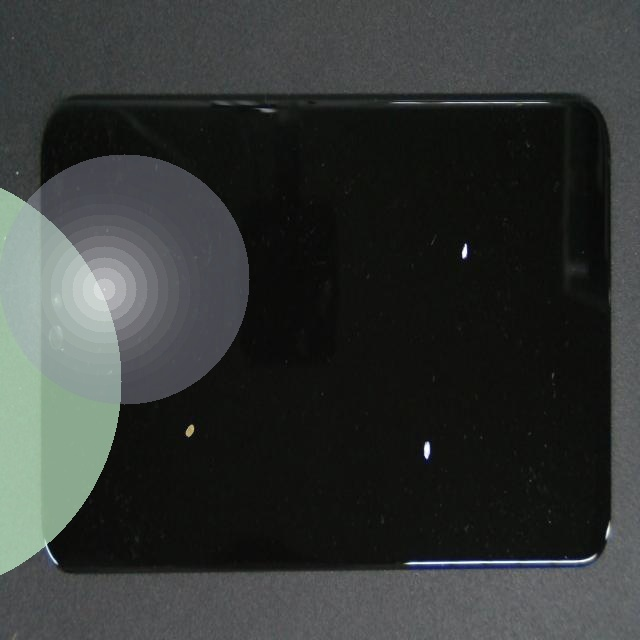stain: (241, 195, 640, 640), (244, 156, 640, 354), (111, 214, 302, 619)
